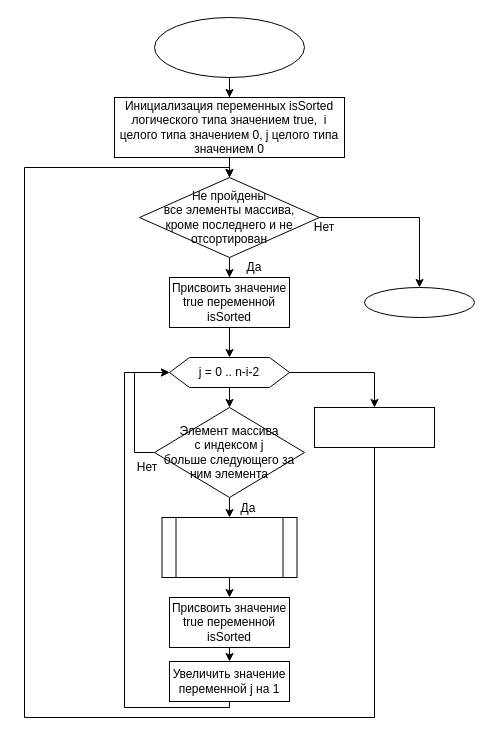
Image size: 492x743. Some labels were removed from this diagram. The shapes that lost their labels are listed below. From the top down, each one's centre as x and y in pixels, then its label:
At pixel 229 47: "Функция bubbleSort с аргументом в виде целочисленного массива".
At pixel 419 302: "Конец".
At pixel 374 427: "Увеличить значение переменной i на 1".
At pixel 229 547: "Меняем местами элемент с индексом j и последующий".
